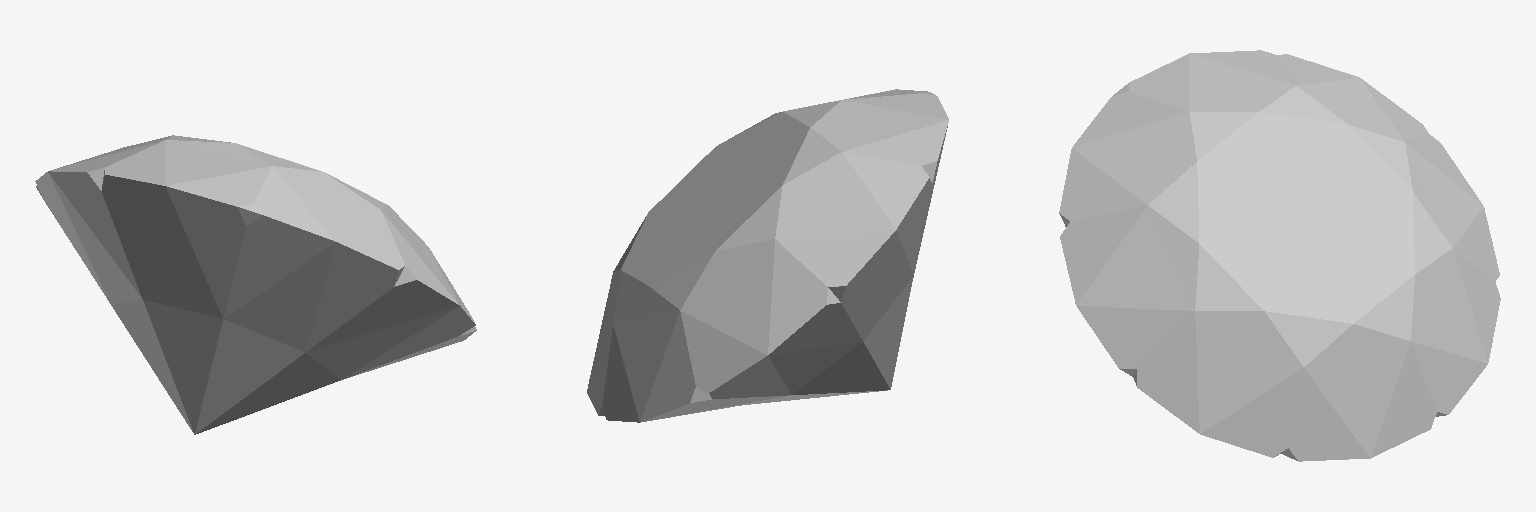
Rendered from demo_diamond3.obj.
3 views of the same model, side by side, from view 1: azimuth 30°, elevation 25°; view 2: azimuth 150°, elevation 25°; view 3: azimuth 270°, elevation 25° (orthographic).
Parts seen in each view (by area): view 1: Mesh4; view 2: Mesh4; view 3: Mesh4.
Part boxes in pixels (x1,y1,x2,y2): Mesh4: (35,135,476,434); Mesh4: (587,89,948,422); Mesh4: (1059,50,1500,461).
Bounding box in the file's own units: 2.56 × 1.98 × 2.91.